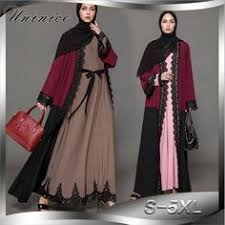middle_eastern_Female: (157, 10, 180, 38)
